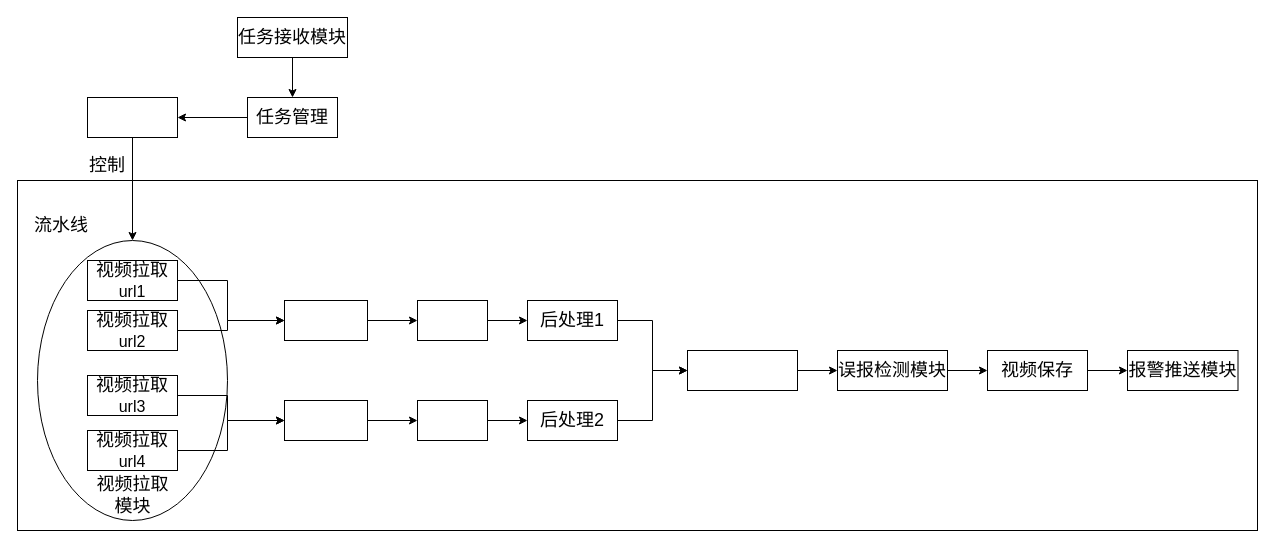
This 1275x548 diagram has some shape labels left out. The shapes that lost their labels are listed below. From the top down, each one's centre as x and y in pixels, then its label:
(x=132, y=117): 定时器
(x=326, y=320): 预处理1
(x=452, y=320): 模型1
(x=742, y=370): 报警处理模块
(x=326, y=420): 预处理2
(x=452, y=420): 模型2
